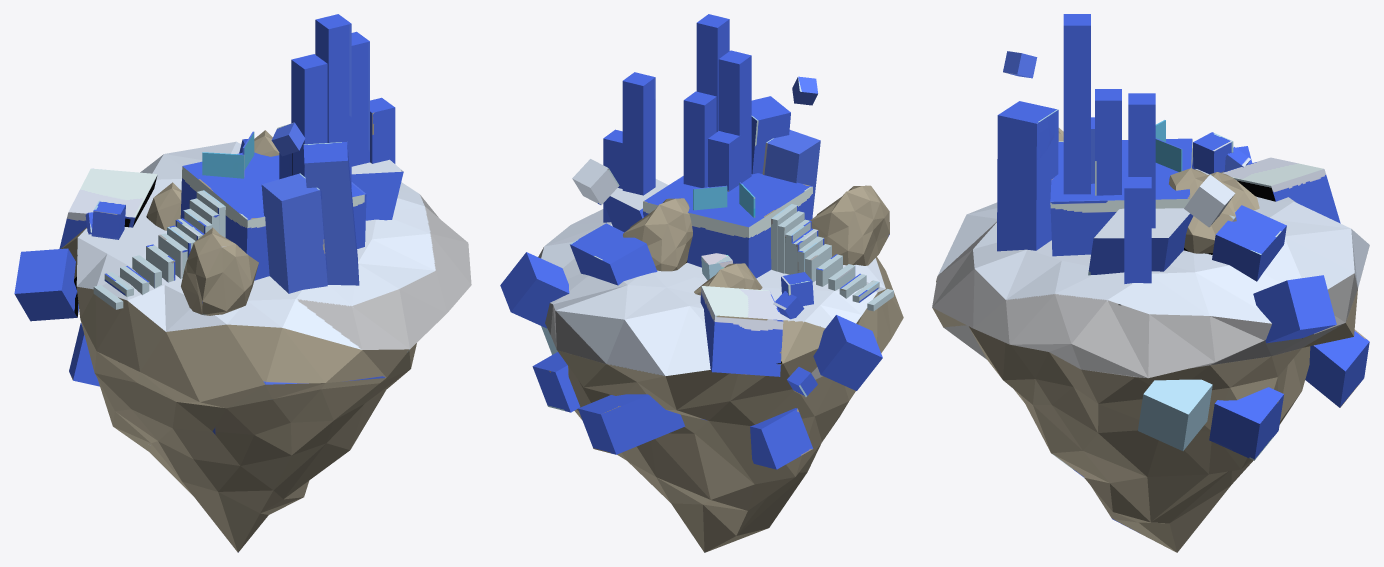
The model's file is IsleA.glb.
3 renders of one model, left to right at view 1: azimuth 30°, elevation 25°; view 2: azimuth 150°, elevation 25°; view 3: azimuth 270°, elevation 25°, orthographic. The views are drawn at different scales.
Parts seen in each view (by area): view 1: Icosphere; view 2: Icosphere; view 3: Icosphere.
Part boxes in pixels (left/top/right/bottom): Icosphere: left=14, top=14, right=471, bottom=552; Icosphere: left=500, top=14, right=903, bottom=552; Icosphere: left=932, top=14, right=1369, bottom=552.
Size of the model in its own units: 35.28 by 44.76 by 32.12.
1 material, 1 textured.
